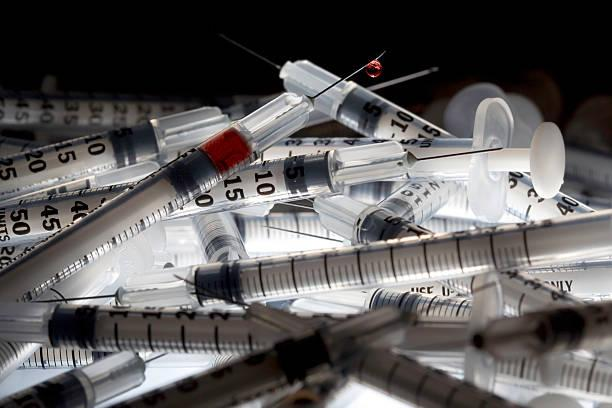Syringe: (0, 93, 311, 300), (181, 211, 611, 304), (121, 308, 409, 407), (0, 107, 228, 198), (164, 142, 404, 217), (0, 303, 286, 353), (351, 349, 518, 407), (0, 92, 202, 134), (0, 351, 144, 407), (315, 81, 451, 138), (472, 302, 611, 357), (443, 82, 542, 146), (313, 194, 430, 243), (487, 123, 563, 196), (495, 353, 611, 400), (235, 211, 340, 256), (506, 172, 593, 220), (378, 179, 462, 224), (499, 269, 581, 314), (365, 288, 471, 321), (370, 288, 471, 321), (193, 212, 248, 262), (565, 145, 611, 191), (20, 347, 108, 368), (0, 136, 42, 156), (0, 244, 28, 269)
